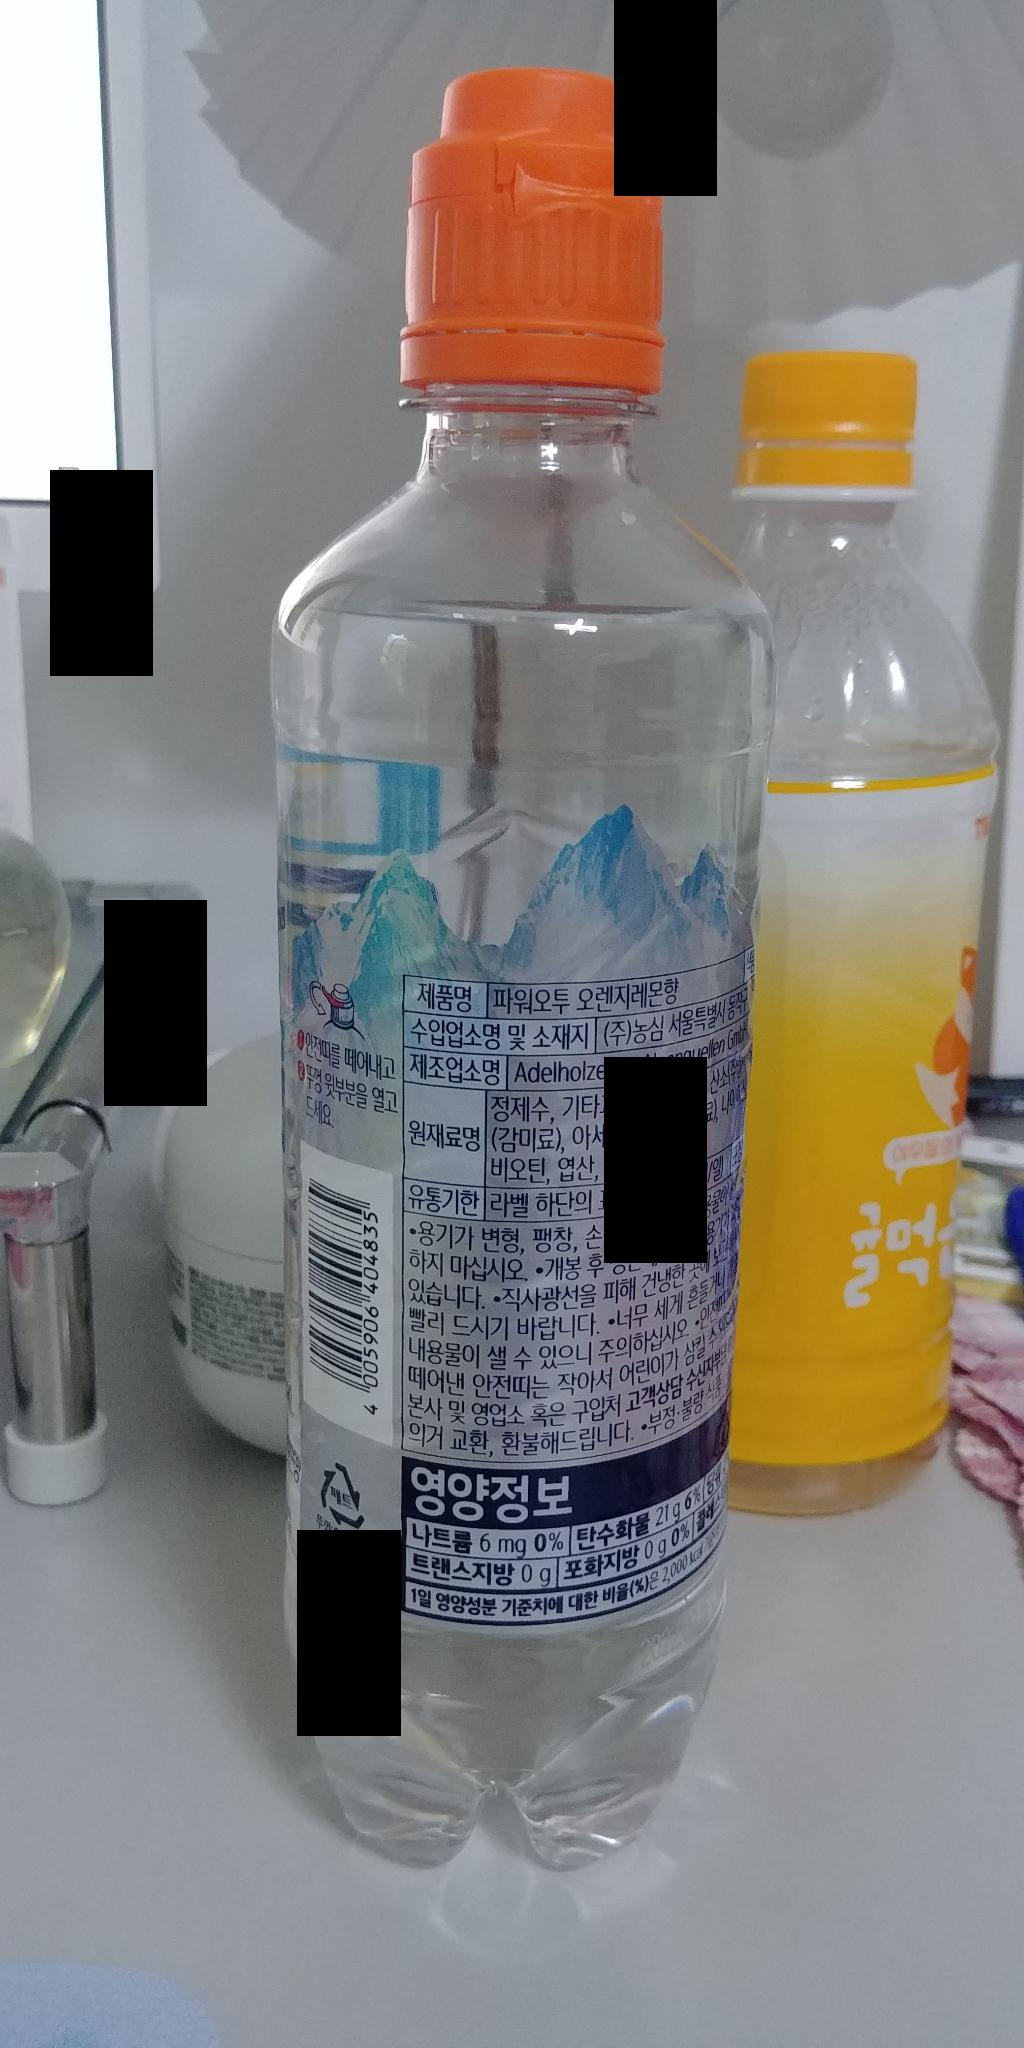powerO2_orange: (218, 69, 759, 1896)
